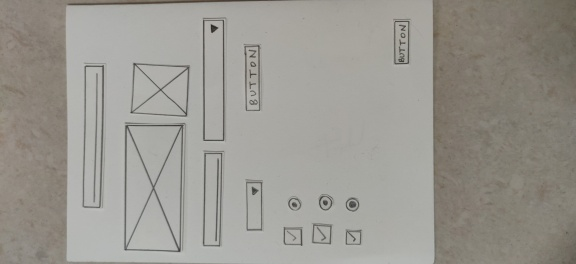button: (243, 42, 262, 113), (392, 19, 410, 66)
checkbox: (282, 225, 304, 246), (310, 223, 331, 245), (346, 229, 364, 247)
dropdown: (200, 15, 228, 141), (244, 177, 264, 233)
img: (123, 121, 184, 254), (133, 62, 190, 117)
radio: (283, 195, 306, 215), (343, 194, 359, 214), (317, 194, 332, 211)
text: (80, 62, 106, 210), (201, 150, 226, 247)
